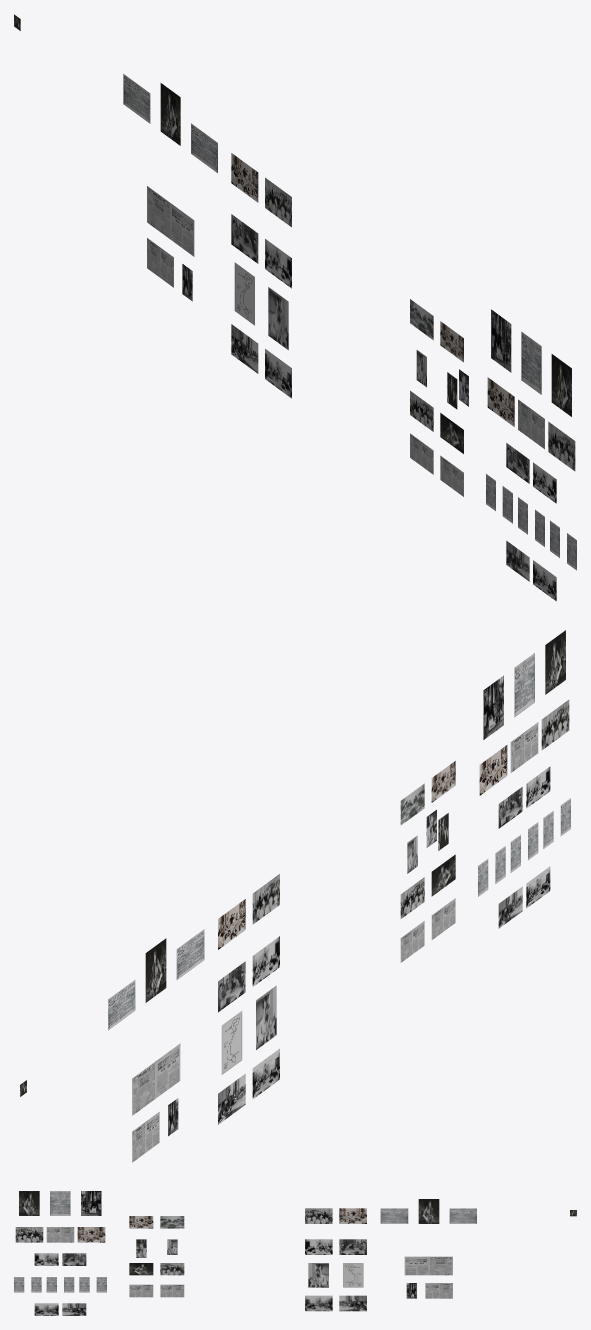
Rendered from PhongThuTu_CD.glb.
3 renders of one model, top to bottom at view 1: azimuth 30°, elevation 25°; view 2: azimuth 150°, elevation 25°; view 3: azimuth 270°, elevation 25°, orthographic. The views are drawn at different scales.
Visible parts, largest first — view 1: Plane.028, Plane.004, Plane.037, Plane.038, Plane.019, Plane.032, Plane.005, Plane.003, Plane.027, Plane.022, Plane.009, Plane.020 (+7 smaller); view 2: Plane.028, Plane.032, Plane.019, Plane.005, Plane.037, Plane.038, Plane.004, Plane.009, Plane.036, Plane.041, Plane.003, Plane.027 (+7 smaller); view 3: Plane.028, Plane.032, Plane.005, Plane.037, Plane.038, Plane.004, Plane.019, Plane.022, Plane.008, Plane.009, Plane.003, Plane.036 (+17 smaller).
Boxes of the visible parts, <box> form: Plane.028: <box>147,186,194,256</box>; Plane.004: <box>268,287,288,350</box>; Plane.037: <box>491,309,511,372</box>; Plane.038: <box>521,331,541,394</box>; Plane.019: <box>234,262,254,325</box>; Plane.032: <box>160,83,180,145</box>; Plane.005: <box>551,354,571,416</box>; Plane.003: <box>487,377,514,426</box>; Plane.027: <box>123,74,150,123</box>; Plane.022: <box>231,324,258,373</box>; Plane.009: <box>548,421,575,471</box>; Plane.020: <box>231,153,258,202</box>; Plane.028: <box>132,1043,180,1115</box>; Plane.032: <box>145,938,166,1002</box>; Plane.019: <box>221,1011,242,1074</box>; Plane.005: <box>545,630,565,694</box>; Plane.037: <box>483,675,503,739</box>; Plane.038: <box>514,653,534,717</box>; Plane.004: <box>256,985,276,1049</box>; Plane.009: <box>541,699,569,750</box>; Plane.036: <box>510,722,538,772</box>; Plane.041: <box>176,929,204,979</box>; Plane.003: <box>479,745,507,795</box>; Plane.027: <box>108,980,135,1030</box>; Plane.028: <box>404,1256,452,1275</box>; Plane.032: <box>418,1199,439,1223</box>; Plane.005: <box>19,1191,39,1215</box>; Plane.037: <box>81,1191,101,1215</box>; Plane.038: <box>50,1191,70,1215</box>; Plane.004: <box>308,1263,328,1287</box>; Plane.019: <box>343,1263,363,1287</box>; Plane.022: <box>339,1295,366,1311</box>; Plane.008: <box>305,1295,332,1311</box>; Plane.009: <box>15,1227,43,1242</box>; Plane.003: <box>77,1227,105,1242</box>; Plane.036: <box>46,1227,74,1242</box>.
Size of the model in its own units: 0.2 by 2 by 8.17.
Materials: 40 (40 with a texture image).
